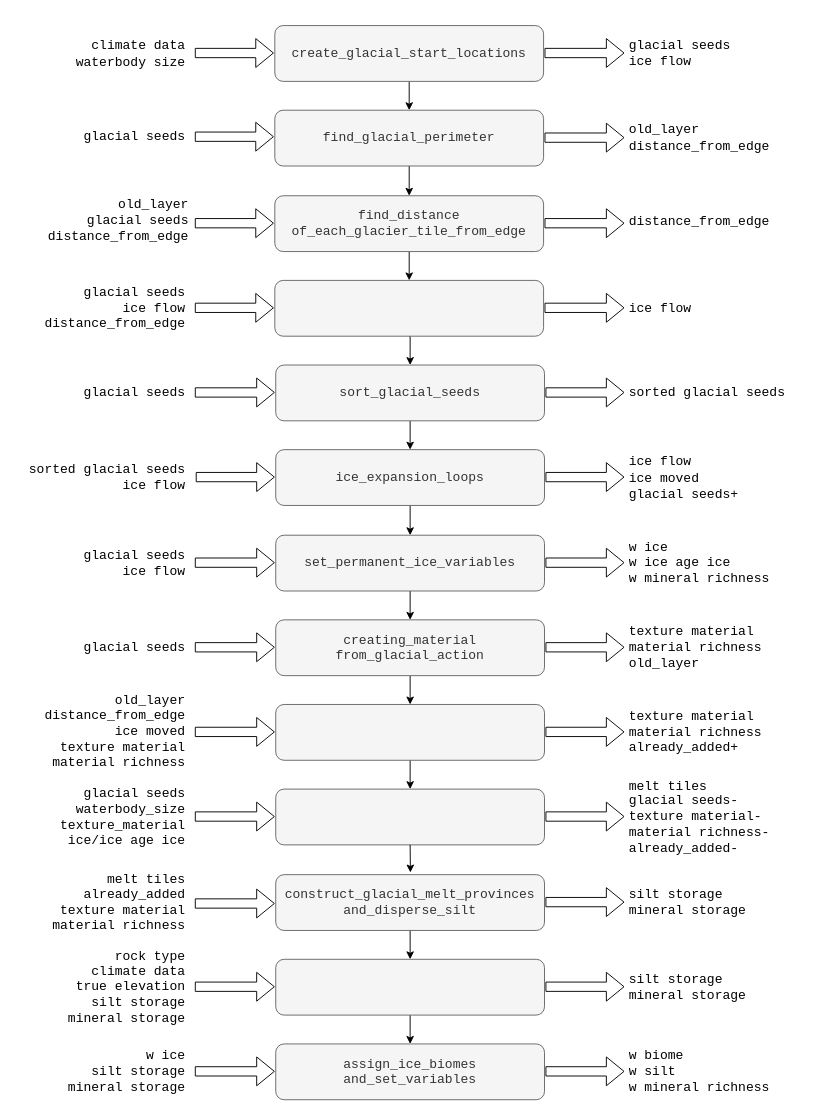
The diagram is 836 pixels wide and 1116 high, and some of its shapes have lost their labels. Here are the shapes that lost their labels. From the top down, the centre of each, then its label:
At (x=409, y=307): "calculate_initial_ice_depth".
At (x=410, y=732): "push_material_to_the_melt_zones".
At (x=410, y=816): "remove_ineligible_ocean_ice_tiles".
At (x=410, y=986): "cull_back_silt based_on_moisture_and_slope".
